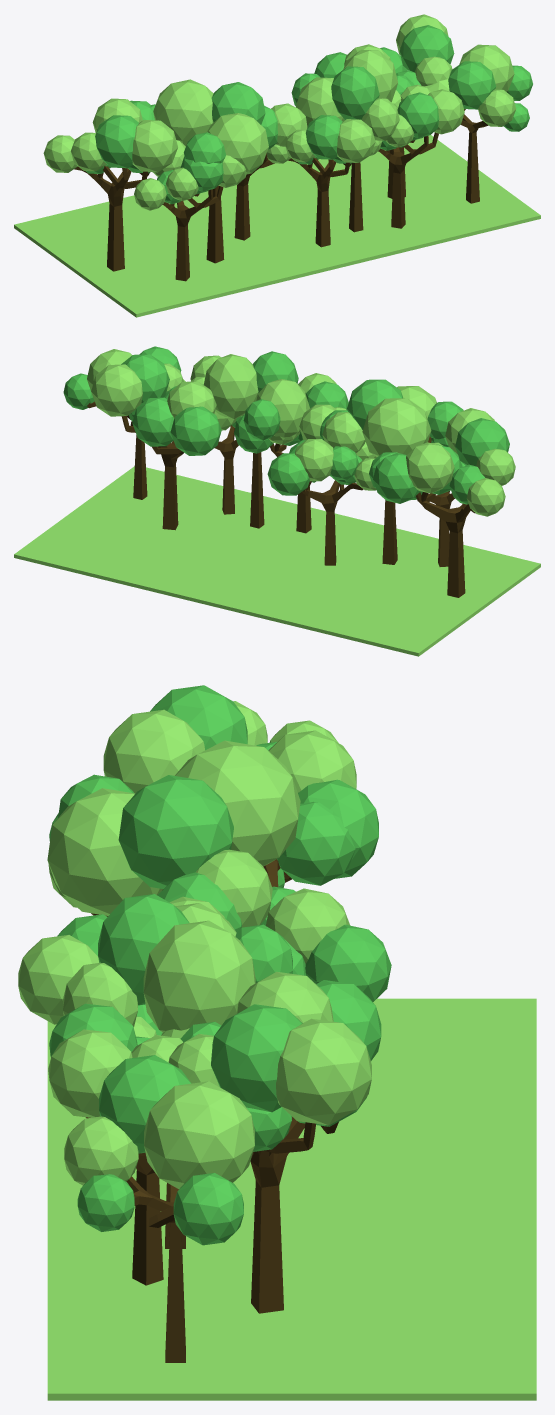
The model's file is Escenario Bosque.glb.
3 views of the same model, one above another, from view 1: azimuth 30°, elevation 25°; view 2: azimuth 150°, elevation 25°; view 3: azimuth 270°, elevation 25° (orthographic). The views are drawn at different scales.
Visible parts, largest first — view 1: Cesped, Arbol 1, Arbol 2.002, Arbol 2.001, Arbol 2, Arbol 1.003, Arbol 1.005, Arbol 1.001, Arbol 1.004, Arbol 1.002; view 2: Cesped, Arbol 1, Arbol 1.001, Arbol 2.002, Arbol 2.001, Arbol 1.002, Arbol 1.003, Arbol 2, Arbol 1.004, Arbol 1.005; view 3: Cesped, Arbol 2.002, Arbol 2, Arbol 1.001, Arbol 2.001, Arbol 1, Arbol 1.004, Arbol 1.002, Arbol 1.003.
Boxes of the visible parts, <box> form: Cesped: <box>14,135,540,317</box>; Arbol 1: <box>43,98,177,271</box>; Arbol 2.002: <box>150,79,268,263</box>; Arbol 2.001: <box>291,49,413,232</box>; Arbol 2: <box>422,44,532,203</box>; Arbol 1.003: <box>267,115,375,247</box>; Arbol 1.005: <box>134,140,246,281</box>; Arbol 1.001: <box>314,14,454,198</box>; Arbol 1.004: <box>370,89,464,228</box>; Arbol 1.002: <box>234,103,307,240</box>; Cesped: <box>14,466,540,656</box>; Arbol 1: <box>373,408,515,597</box>; Arbol 1.001: <box>91,354,221,530</box>; Arbol 2.002: <box>322,379,463,564</box>; Arbol 2.001: <box>203,351,309,528</box>; Arbol 1.002: <box>267,404,376,565</box>; Arbol 1.003: <box>234,373,348,533</box>; Arbol 2: <box>63,346,185,499</box>; Arbol 1.004: <box>190,355,242,514</box>; Arbol 1.005: <box>411,437,465,566</box>; Cesped: <box>47,998,536,1400</box>; Arbol 2.002: <box>47,740,355,927</box>; Arbol 2: <box>64,1055,291,1362</box>; Arbol 1.001: <box>131,971,381,1313</box>; Arbol 2.001: <box>63,894,292,1248</box>; Arbol 1: <box>103,685,378,882</box>; Arbol 1.004: <box>48,1003,189,1285</box>; Arbol 1.002: <box>157,872,391,1001</box>; Arbol 1.003: <box>18,914,162,1035</box>.
Bounding box in the file's own units: 61.9 × 22.77 × 30.15.
